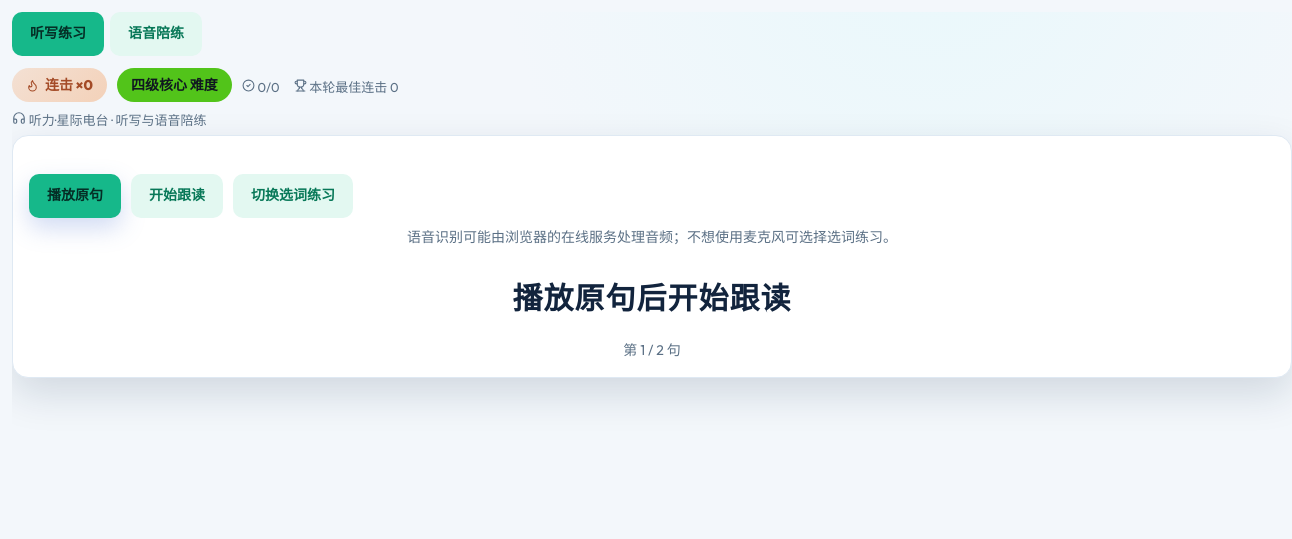
Test: offers a usable selection mode after microphone permission is denied
What coordinates should you click on to do the following:
click the button "开始跟读"
I would click on:
 (177, 196)
Its box is [131,174,223,218].
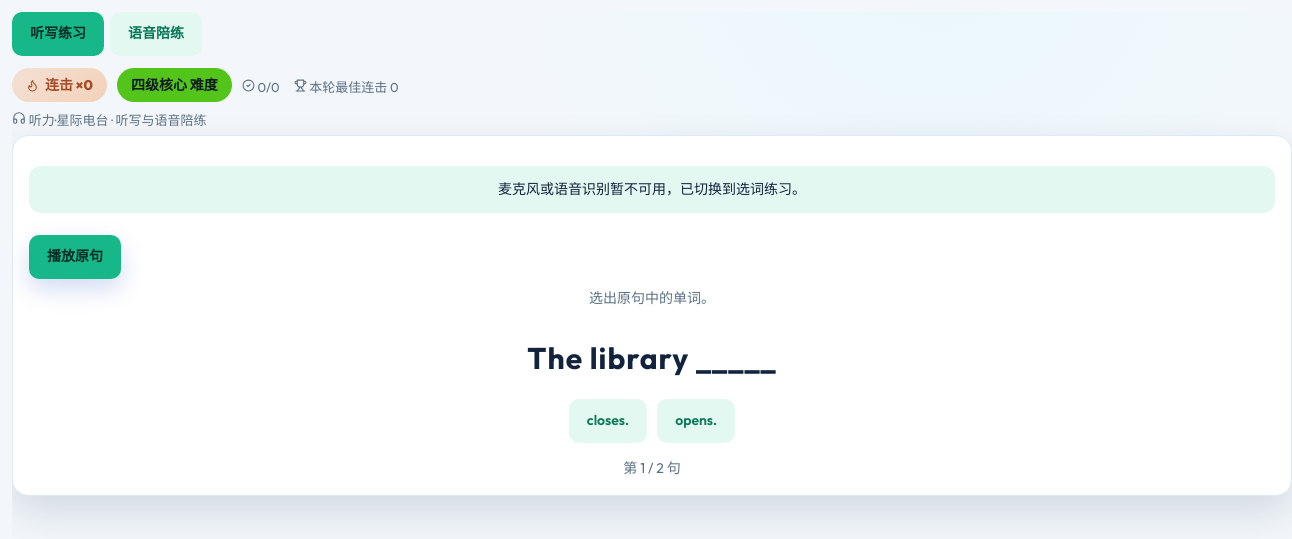
Check: the button "opens." is enabled, box [657,399,735,443]
Check: the message shows "麦克风", box [29,166,1275,213]
